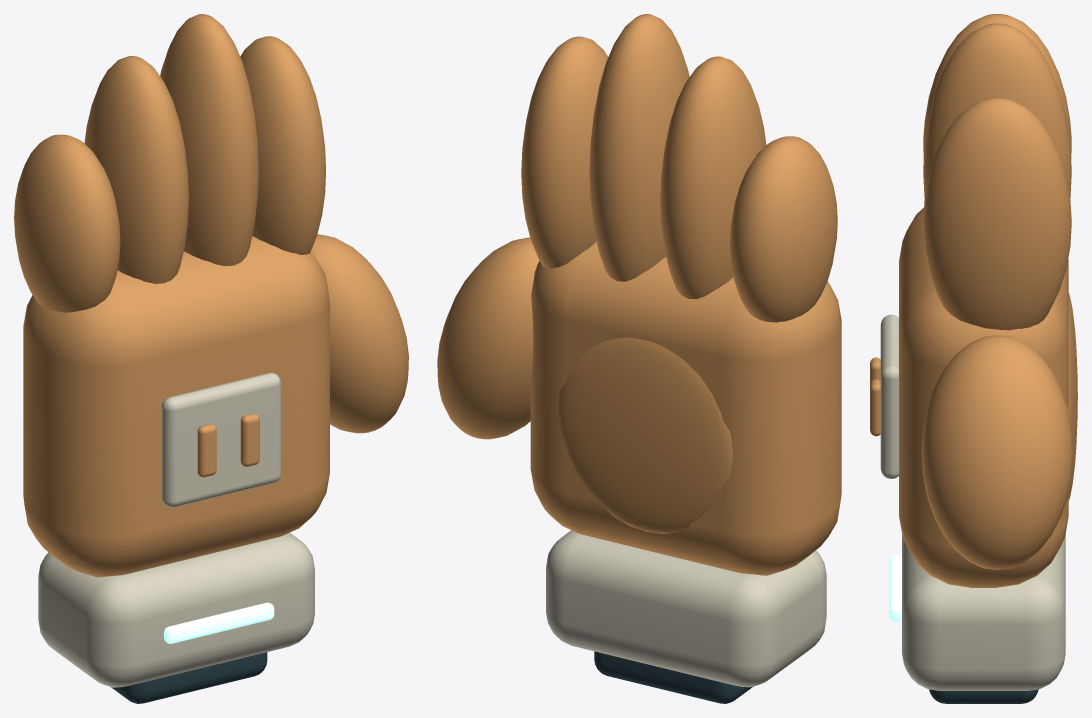
The model's file is glove_left.glb.
The picture shows the model from 3 angles, left to right: view 1: azimuth 30°, elevation 25°; view 2: azimuth 150°, elevation 25°; view 3: azimuth 270°, elevation 25°; orthographic projection. The views are drawn at different scales.
Parts seen in each view (by area): view 1: Padded palm, Cuff, Soft finger 2, Soft finger 1, Soft finger 0, Soft finger 3, Inward thumb, Spool badge, Socket, Wrist light, Badge spool, Badge spool.001; view 2: Padded palm, Cuff, Palm cushion, Soft finger 2, Soft finger 1, Soft finger 0, Inward thumb, Soft finger 3, Socket; view 3: Inward thumb, Soft finger 3, Padded palm, Cuff, Soft finger 2, Spool badge, Soft finger 1, Palm cushion, Socket, Wrist light, Badge spool.001.
Part boxes in pixels (box(x1,y1,x2,y2)): Padded palm: box(23, 236, 329, 577); Cuff: box(38, 532, 314, 687); Soft finger 2: box(160, 14, 258, 266); Soft finger 1: box(84, 56, 188, 283); Soft finger 0: box(14, 134, 120, 312); Soft finger 3: box(240, 36, 325, 254); Inward thumb: box(310, 234, 408, 433); Spool badge: box(161, 372, 280, 507); Socket: box(111, 652, 267, 703); Wrist light: box(164, 602, 274, 643); Badge spool: box(197, 424, 216, 477); Badge spool.001: box(240, 413, 259, 466); Padded palm: box(530, 242, 841, 575); Cuff: box(546, 530, 826, 687); Palm cushion: box(557, 337, 732, 533); Soft finger 2: box(589, 14, 689, 281); Soft finger 1: box(660, 56, 766, 299); Soft finger 0: box(730, 136, 837, 322); Inward thumb: box(437, 237, 539, 439); Soft finger 3: box(521, 36, 608, 268); Socket: box(594, 651, 752, 703); Inward thumb: box(921, 335, 1073, 569); Soft finger 3: box(923, 97, 1071, 330); Padded palm: box(899, 208, 1068, 587); Cuff: box(902, 534, 1065, 690); Soft finger 2: box(923, 23, 1071, 197); Spool badge: box(880, 314, 898, 478); Soft finger 1: box(923, 14, 1071, 158); Palm cushion: box(1068, 293, 1077, 500); Socket: box(929, 689, 1038, 703); Wrist light: box(889, 554, 901, 621); Badge spool.001: box(870, 379, 880, 436).
Size of the model in its own units: 0.2924 by 0.4859 by 0.137.
